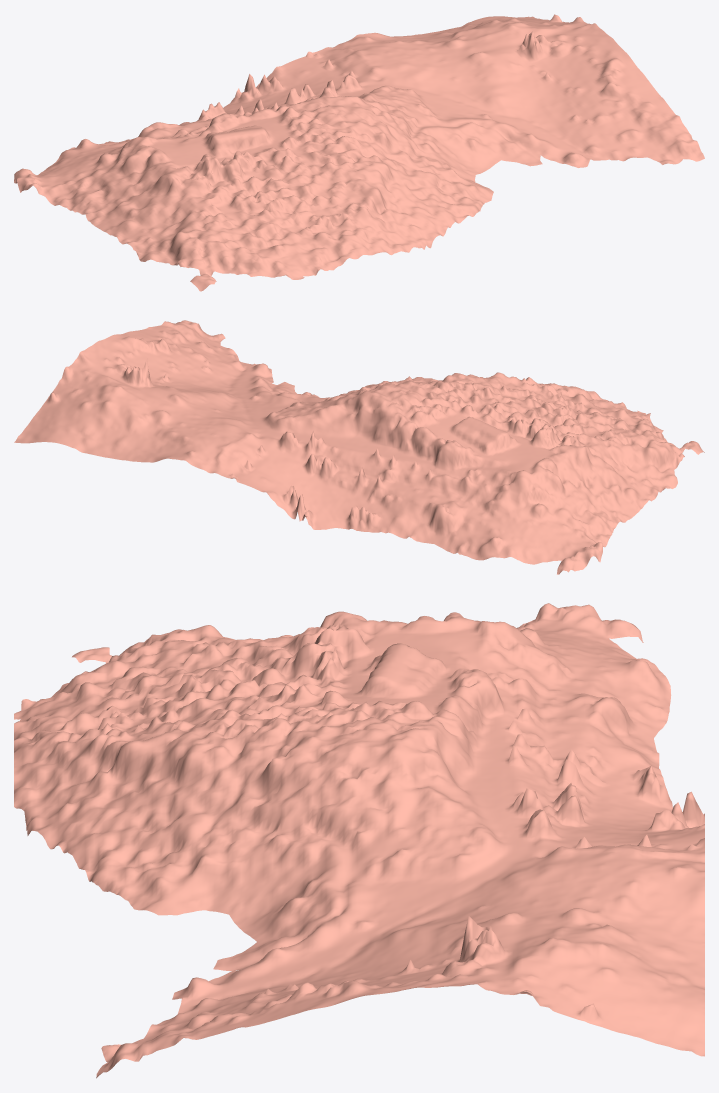
Rendered from Permian.dae.
3 renders of one model, top to bottom at view 1: azimuth 30°, elevation 25°; view 2: azimuth 150°, elevation 25°; view 3: azimuth 270°, elevation 25°, orthographic. The views are drawn at different scales.
Visible parts, largest first — view 1: Permian; view 2: Permian; view 3: Permian.
Part boxes in pixels (bbox=[...]): Permian: bbox=[14, 14, 704, 291]; Permian: bbox=[14, 320, 704, 574]; Permian: bbox=[14, 603, 704, 1078].
Size of the model in its own units: 95.43 by 60.4 by 11.5.
